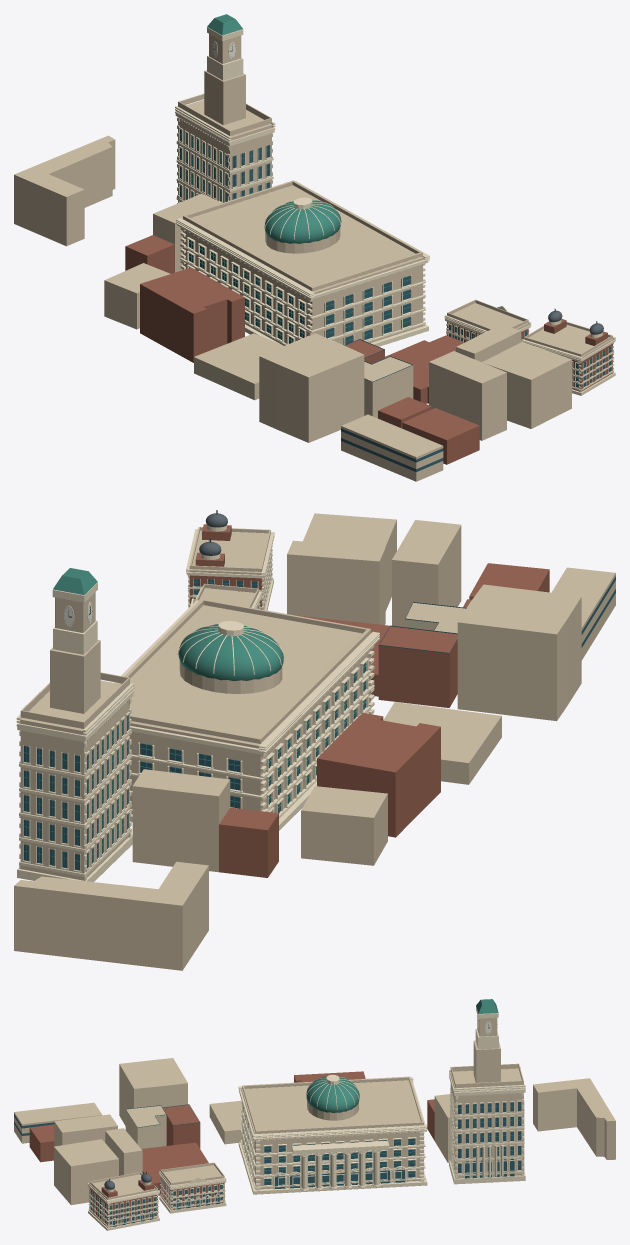
File: city_-2_-1.glb
The picture shows the model from 3 angles, top to bottom: view 1: azimuth 30°, elevation 25°; view 2: azimuth 150°, elevation 25°; view 3: azimuth 270°, elevation 25°; orthographic projection. The views are drawn at different scales.
Parts seen in each view (by area): view 1: city_-2_-1; view 2: city_-2_-1; view 3: city_-2_-1.
Boxes of the visible parts, x1,y1,x2,y2 form: city_-2_-1: [14, 14, 615, 481]; city_-2_-1: [14, 510, 615, 970]; city_-2_-1: [14, 999, 615, 1230].
Size of the model in its own units: 140 by 90 by 286.
